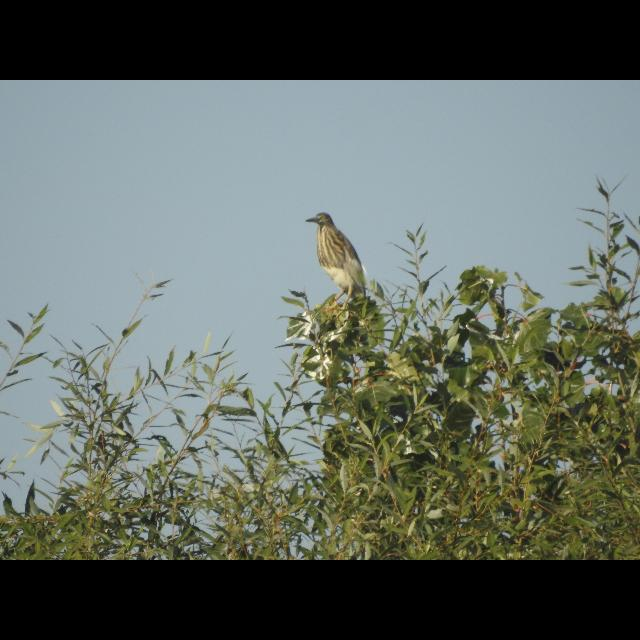heron: (300, 208, 378, 304)
